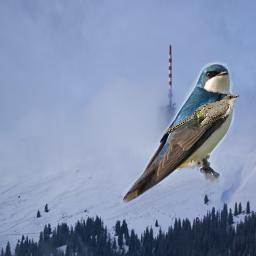Cuckoo: (164, 94, 240, 134)
Swallow: (117, 58, 239, 205)
